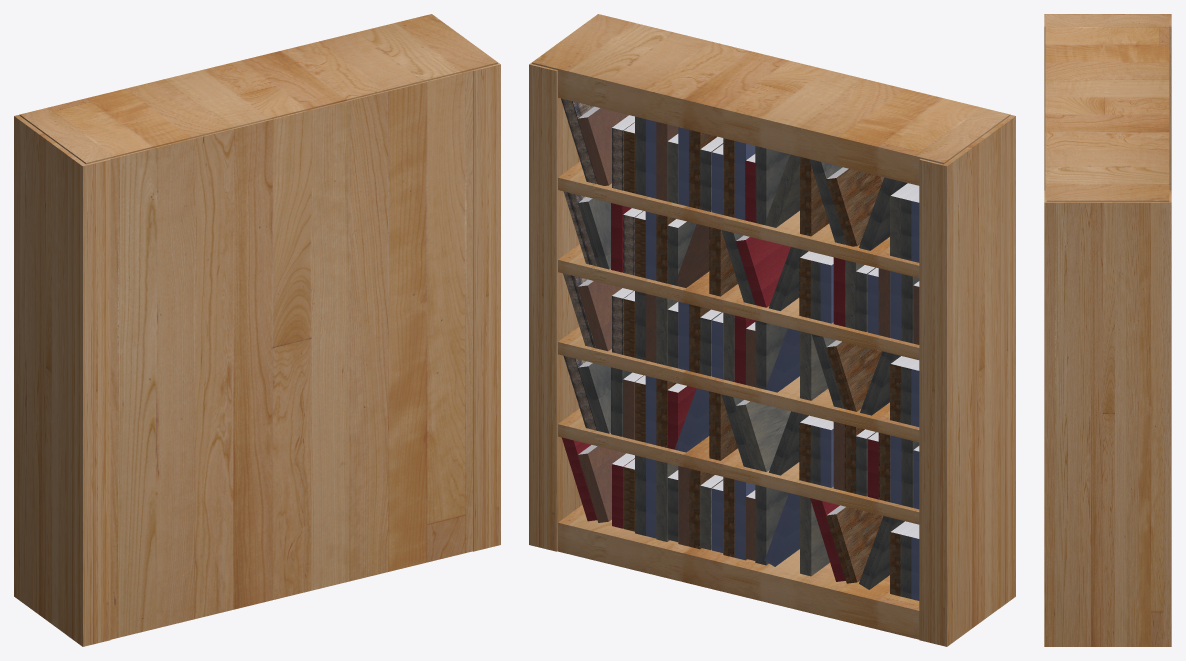
File: bookshelf.gltf
3 renders of one model, left to right at view 1: azimuth 30°, elevation 25°; view 2: azimuth 150°, elevation 25°; view 3: azimuth 270°, elevation 25°, orthographic. The views are drawn at different scales.
Parts seen in each view (by area): view 1: cube10, cube12, cube13, cube11; view 2: cube12, cube13, cube11, cube14, cube10, cube15, cube16, cube18, cube17, cube42, cube138, cube90 (+111 smaller); view 3: cube11, cube13, cube12, cube10.
Part boxes in pixels (<box>): cube10: <box>66,66,489,646</box>; cube12: <box>14,114,110,646</box>; cube13: <box>19,14,497,164</box>; cube11: <box>432,14,500,551</box>; cube12: <box>919,114,1015,646</box>; cube13: <box>532,14,1010,185</box>; cube11: <box>529,14,597,551</box>; cube14: <box>557,505,919,639</box>; cube10: <box>880,115,1015,607</box>; cube15: <box>558,161,919,277</box>; cube16: <box>558,244,919,359</box>; cube18: <box>558,408,919,524</box>; cube17: <box>558,326,919,442</box>; cube42: <box>826,167,882,246</box>; cube138: <box>826,505,882,583</box>; cube90: <box>826,340,881,411</box>; cube11: <box>1044,190,1171,646</box>; cube13: <box>1046,14,1169,201</box>; cube12: <box>1044,14,1171,190</box>; cube10: <box>1045,14,1074,199</box>.
Size of the model in its own units: 0.1603 by 0.1768 by 0.0458.
Materials: 9 (9 with a texture image).
